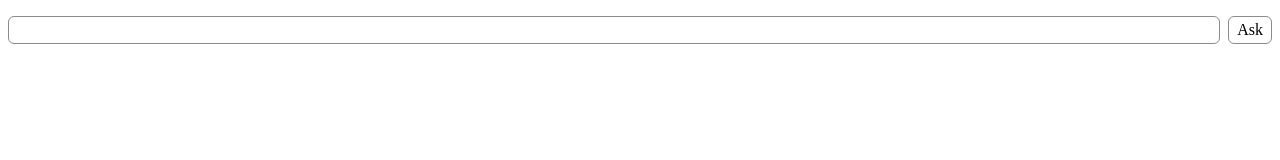
Scenario: AssistantBox citing, framing once and going back (spec assistant §4) › Back restores the view captured when asking, disappears and returns focus to the input
The image size is (1280, 160).
Type "q" into the field at {"x": 614, "y": 30}, box x1=8 y1=16 x2=1220 y2=44
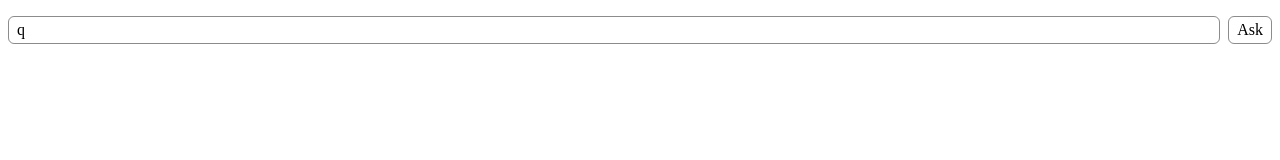
Submit the form, box x1=8 y1=16 x2=1272 y2=44
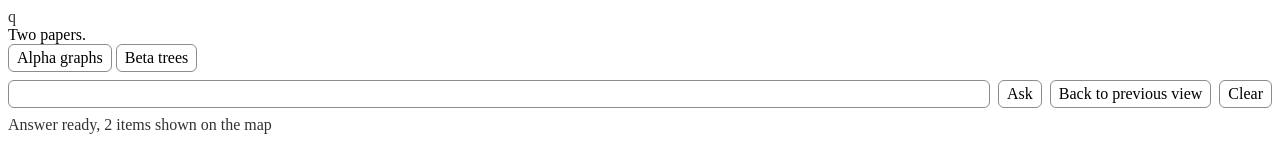
Click the button "Back to previous view" at {"x": 1131, "y": 94}, box x1=1050 y1=80 x2=1211 y2=108
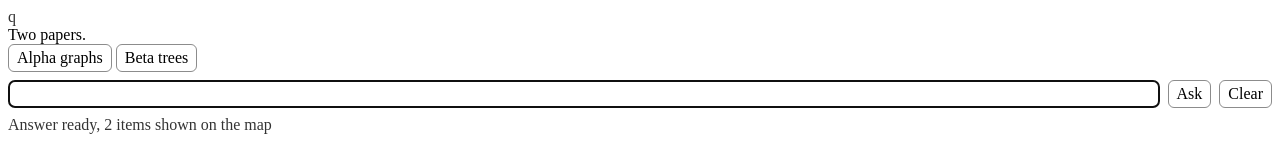
Now the button "Back to previous view" is gone
